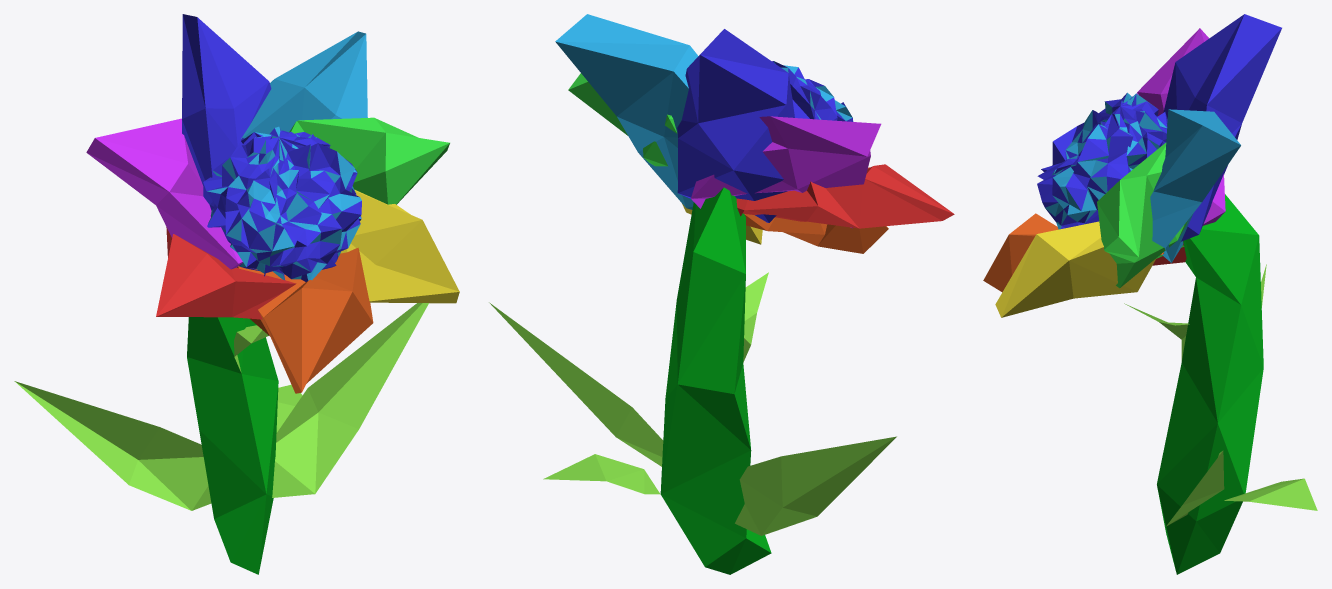
File: rainbowflower.02.gltf
3 renders of one model, left to right at view 1: azimuth 30°, elevation 25°; view 2: azimuth 150°, elevation 25°; view 3: azimuth 270°, elevation 25°, orthographic. The views are drawn at different scales.
Visible parts, largest first — view 1: Rainbow_flower.02; view 2: Rainbow_flower.02; view 3: Rainbow_flower.02.
Part boxes in pixels (<box>): Rainbow_flower.02: <box>14,14,459,574</box>; Rainbow_flower.02: <box>489,14,954,574</box>; Rainbow_flower.02: <box>983,14,1317,574</box>.
Bounding box in the file's own units: 0.606 × 0.7769 × 0.4306.
